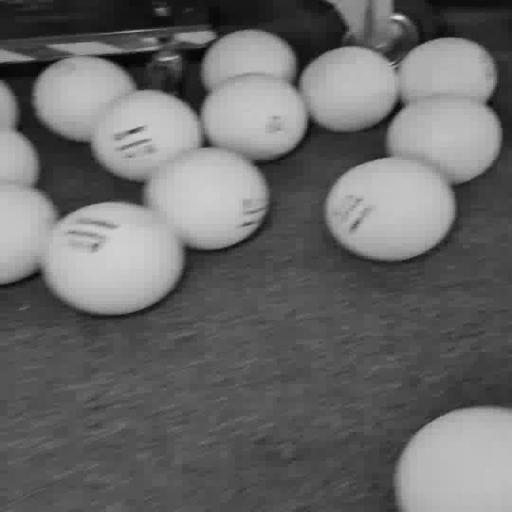fuel: (42, 202, 185, 315), (325, 157, 456, 261), (143, 148, 270, 250), (394, 407, 511, 511), (386, 95, 502, 185), (91, 90, 203, 181), (201, 74, 308, 161), (33, 57, 136, 143), (299, 47, 398, 132), (399, 37, 497, 103), (0, 183, 58, 285), (201, 30, 297, 91), (0, 130, 40, 187), (0, 80, 18, 130)
